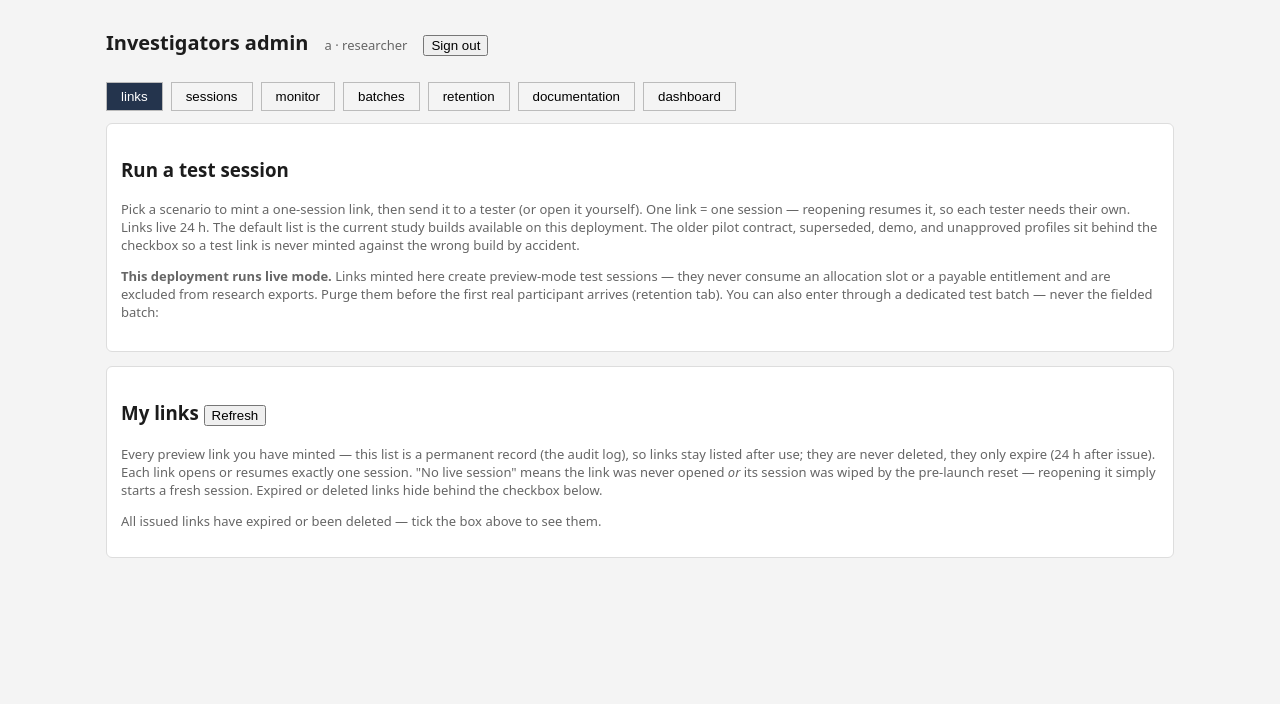
Scenario: AdminApp › sessions tab row click opens the detail and scrolls it into view
The width and height of the screenshot is (1280, 704).
Click the button "sessions" at (212, 96), box [171,82,253,111]
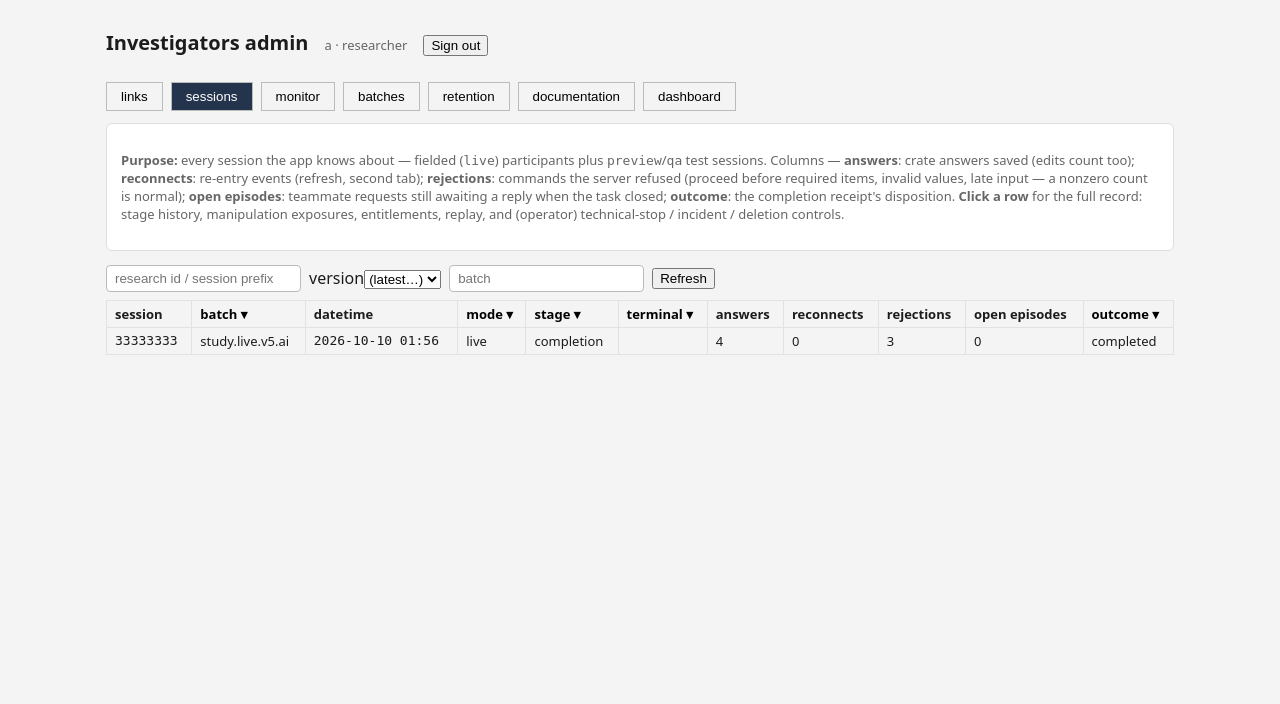
Click the text "33333333" at (149, 341), box [106,327,192,354]
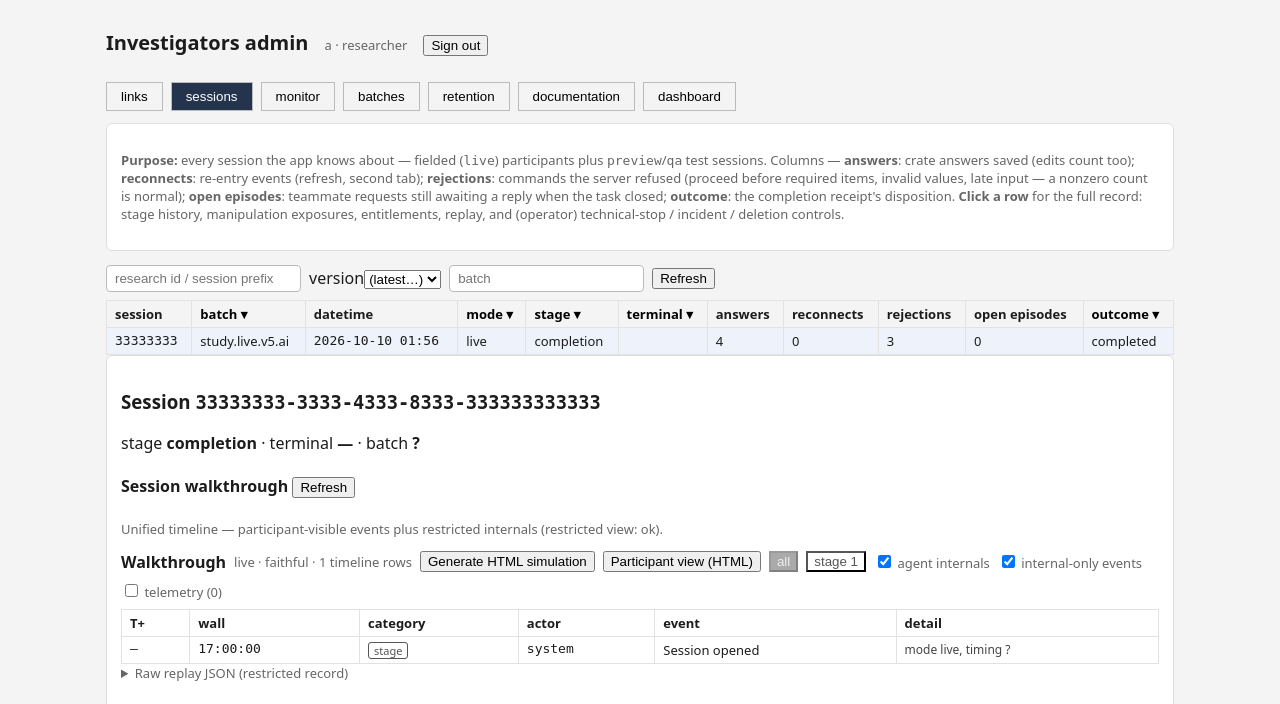
Expected: the heading "Session walkthrough Refresh" is shown, [121,476,355,498]
Expected: the text "Session opened" is shown, [655,636,896,663]
